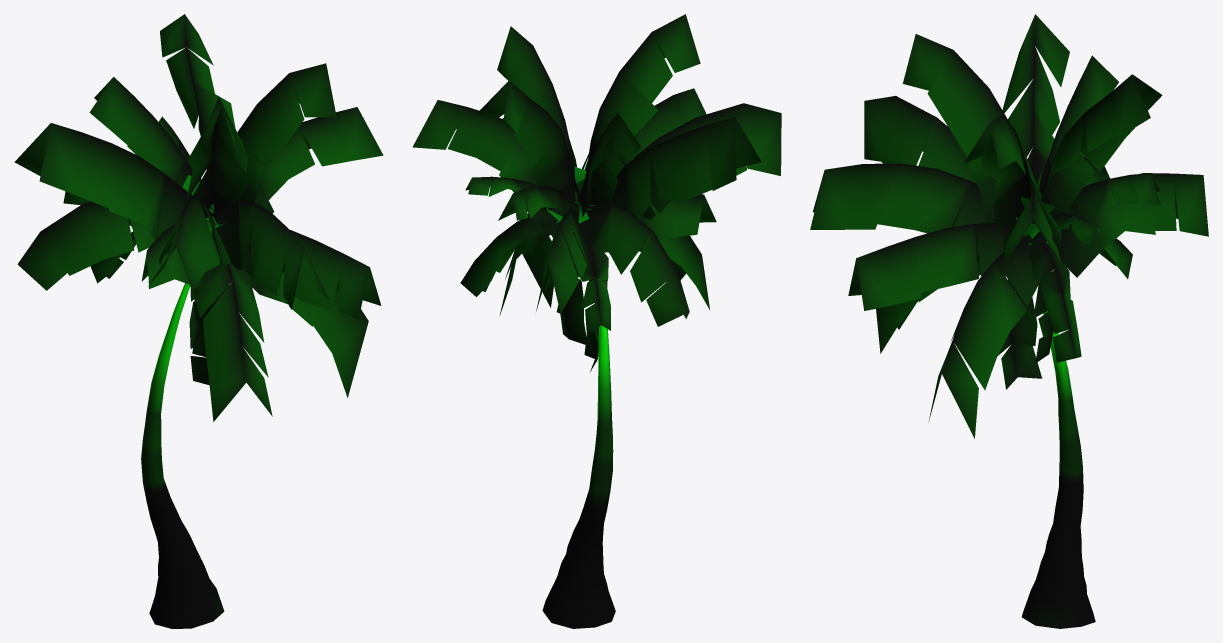
The model's file is CoconutPalmTree02_afsTREE_xlprl05_xef99_uv2_xds10_xlod00.fbx.
3 renders of one model, left to right at view 1: azimuth 30°, elevation 25°; view 2: azimuth 150°, elevation 25°; view 3: azimuth 270°, elevation 25°, orthographic. The views are drawn at different scales.
Visible parts, largest first — view 1: branch19_xw08_xt08_xp02_xlp04, trunk_xw08_xt04_xlp00, branch01_xw06_xt07_xp07_xlp04, branch17_xw08_xt09_xlp04, branch02_xw08_xt08_xlp05_xp01, branch10_xw10_xt08_xp10_xlp05, branch11_xw08_xt08_xlp04, branch21_xw08_xt08_xp06_xlp05, branch17_xw12_xt10_xlp06_xp06, branch02_xw08_xt08_xlp04, branch12_xw11_xt09_xp03_xlp06, branch03_xw06_xt07_xlp04 (+4 smaller); view 2: trunk_xw08_xt04_xlp00, branch19_xw08_xt08_xp02_xlp04, branch17_xw12_xt10_xlp06_xp06, branch17_xw08_xt09_xlp04, branch11_xw08_xt08_xlp04, branch12_xw11_xt09_xp03_xlp06, branch20_xw09_xt08_xp09_xlp04, branch10_xw10_xt08_xp10_xlp05, branch21_xw08_xt08_xp06_xlp05, branch14_xw08_xt09_xp10_xlp06, branch04_xw05_xt07_xlp05_xp02, branch07_xw04_xt08_xlp06_xp05 (+7 smaller); view 3: branch02_xw08_xt08_xlp05_xp01, trunk_xw08_xt04_xlp00, branch02_xw08_xt08_xlp04, branch03_xw06_xt07_xlp04, branch12_xw11_xt09_xp03_xlp06, branch17_xw12_xt10_xlp06_xp06, branch14_xw08_xt09_xp10_xlp06, branch19_xw08_xt08_xp02_xlp04, branch20_xw09_xt08_xp09_xlp04, branch10_xw10_xt08_xp10_xlp05, branch04_xw05_xt07_xlp05_xp02, branch15_xw08_xt09_xlp06_xp09 (+7 smaller).
Part boxes in pixels (<box>): branch19_xw08_xt08_xp02_xlp04: <box>14,123,192,240</box>; trunk_xw08_xt04_xlp00: <box>141,283,224,628</box>; branch01_xw06_xt07_xp07_xlp04: <box>192,250,272,421</box>; branch17_xw08_xt09_xlp04: <box>17,201,154,290</box>; branch02_xw08_xt08_xlp05_xp01: <box>211,200,330,309</box>; branch10_xw10_xt08_xp10_xlp05: <box>237,63,336,202</box>; branch11_xw08_xt08_xlp04: <box>254,107,383,213</box>; branch21_xw08_xt08_xp06_xlp05: <box>89,77,192,186</box>; branch17_xw12_xt10_xlp06_xp06: <box>186,97,250,211</box>; branch02_xw08_xt08_xlp04: <box>244,229,381,319</box>; branch12_xw11_xt09_xp03_xlp06: <box>160,14,235,169</box>; branch03_xw06_xt07_xlp04: <box>250,272,368,397</box>; trunk_xw08_xt04_xlp00: <box>542,279,615,628</box>; branch19_xw08_xt08_xp02_xlp04: <box>580,116,761,219</box>; branch17_xw12_xt10_xlp06_xp06: <box>585,14,700,177</box>; branch17_xw08_xt09_xlp04: <box>584,202,689,326</box>; branch11_xw08_xt08_xlp04: <box>413,100,555,225</box>; branch12_xw11_xt09_xp03_xlp06: <box>477,80,580,210</box>; branch20_xw09_xt08_xp09_xlp04: <box>634,103,781,175</box>; branch10_xw10_xt08_xp10_xlp05: <box>497,26,577,182</box>; branch21_xw08_xt08_xp06_xlp05: <box>580,112,641,216</box>; branch14_xw08_xt09_xp10_xlp06: <box>536,208,590,313</box>; branch04_xw05_xt07_xlp05_xp02: <box>460,215,559,296</box>; branch07_xw04_xt08_xlp06_xp05: <box>572,221,610,335</box>; branch02_xw08_xt08_xlp05_xp01: <box>810,163,994,253</box>; trunk_xw08_xt04_xlp00: <box>1021,311,1095,628</box>; branch02_xw08_xt08_xlp04: <box>848,222,1012,310</box>; branch03_xw06_xt07_xlp04: <box>928,237,1042,438</box>; branch12_xw11_xt09_xp03_xlp06: <box>1040,74,1162,234</box>; branch17_xw12_xt10_xlp06_xp06: <box>902,34,1008,222</box>; branch14_xw08_xt09_xp10_xlp06: <box>1058,173,1208,277</box>; branch19_xw08_xt08_xp02_xlp04: <box>1002,14,1069,184</box>; branch20_xw09_xt08_xp09_xlp04: <box>864,96,976,183</box>; branch10_xw10_xt08_xp10_xlp05: <box>963,115,1041,232</box>; branch04_xw05_xt07_xlp05_xp02: <box>1027,234,1081,362</box>; branch15_xw08_xt09_xlp06_xp09: <box>1041,173,1160,242</box>.
Size of what is drawn, in the model's own units: 12.05 by 12.44 by 19.55.
